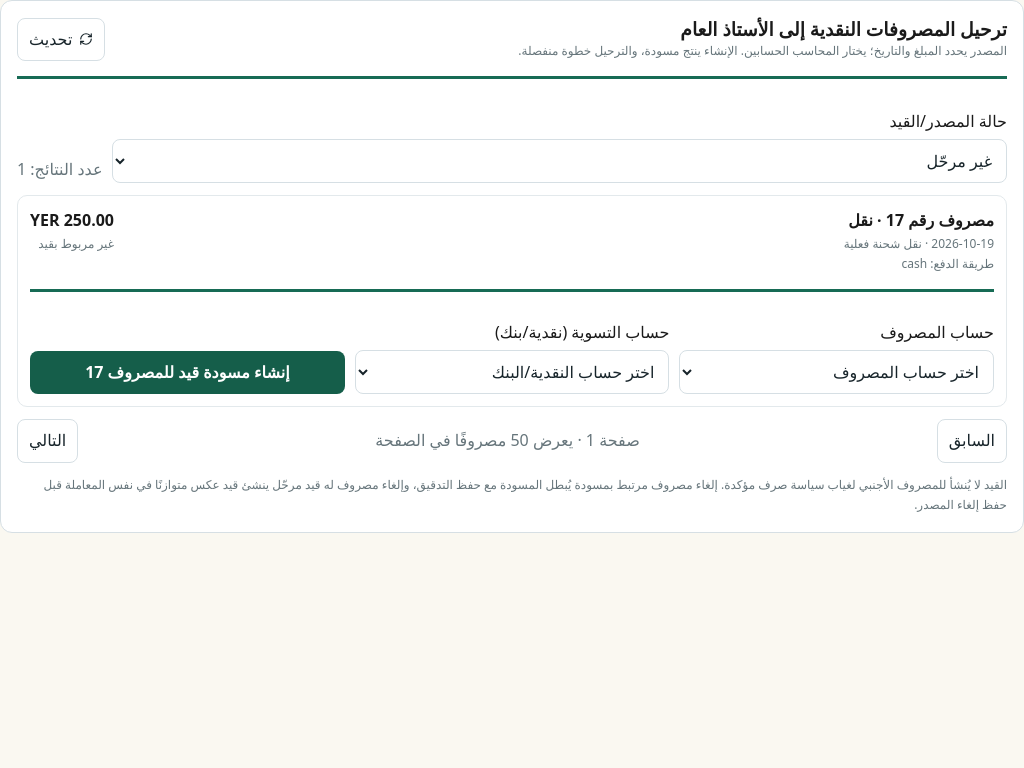
cash expense source journal integration › uses source id and selected tenant chart accounts, then refreshes the ledger views
Expected: the text "مصروف رقم 17 · نقل" is shown, [848, 209, 994, 231]
Select "5100 — مصروفات التشغيل" in the dropdown named "حساب المصروف للمصروف 17" at (837,372), box [679, 350, 994, 394]
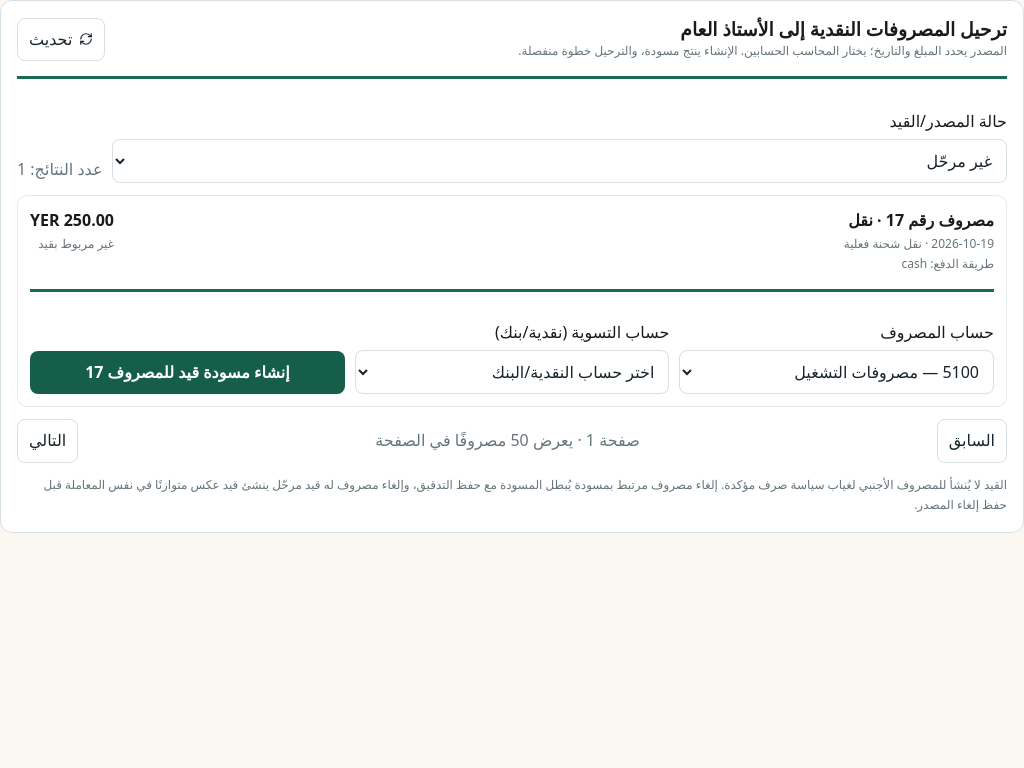
Select "1000 — النقدية بالصندوق" in the dropdown named "حساب التسوية للمصروف 17" at (512,372), box [355, 350, 669, 394]
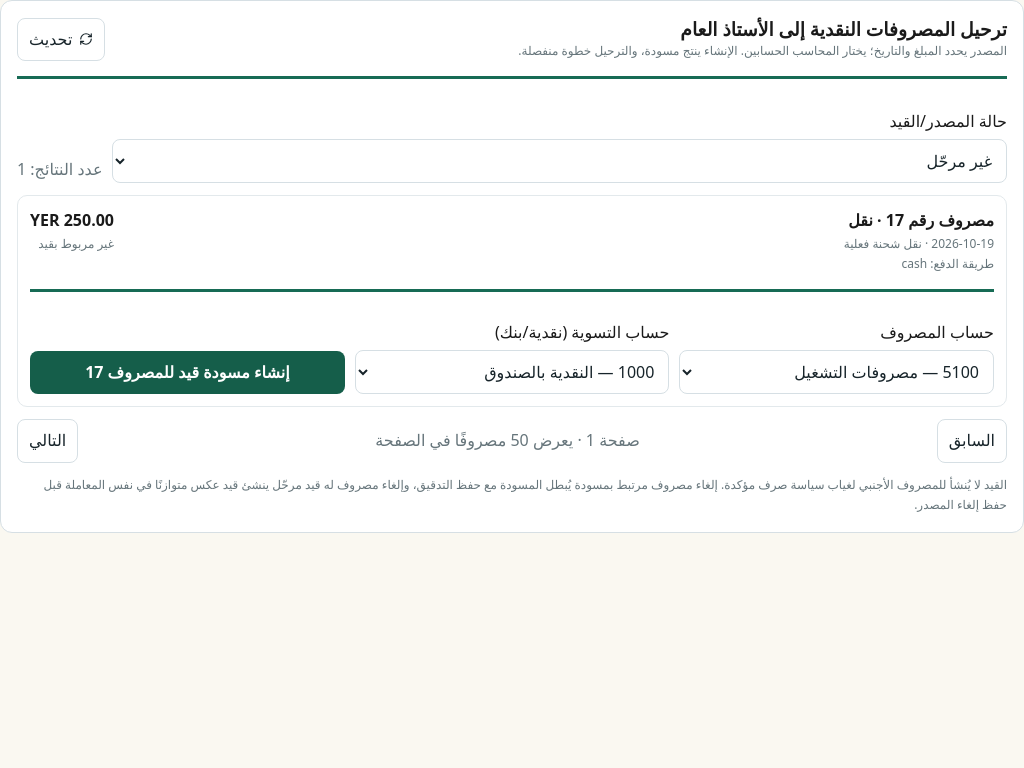
Click the button "إنشاء مسودة قيد للمصروف 17" at (187,372), box [30, 351, 345, 394]
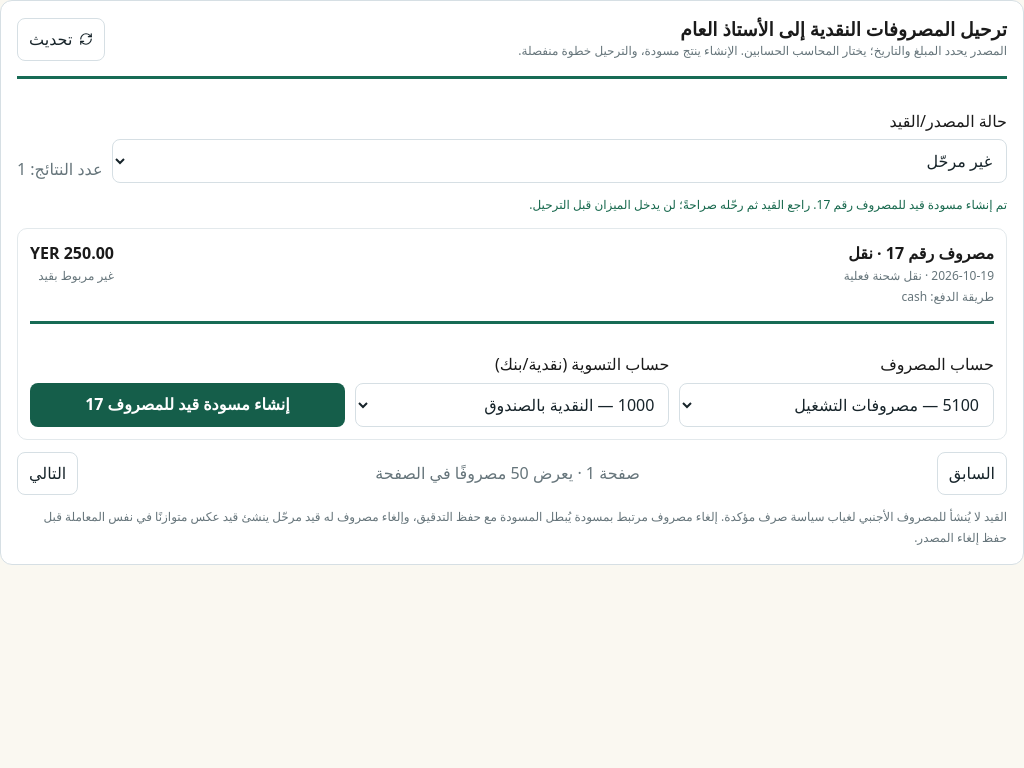
Now the text "تم إنشاء مسودة قيد للمصروف رقم 17" is shown, box [529, 196, 1007, 213]
